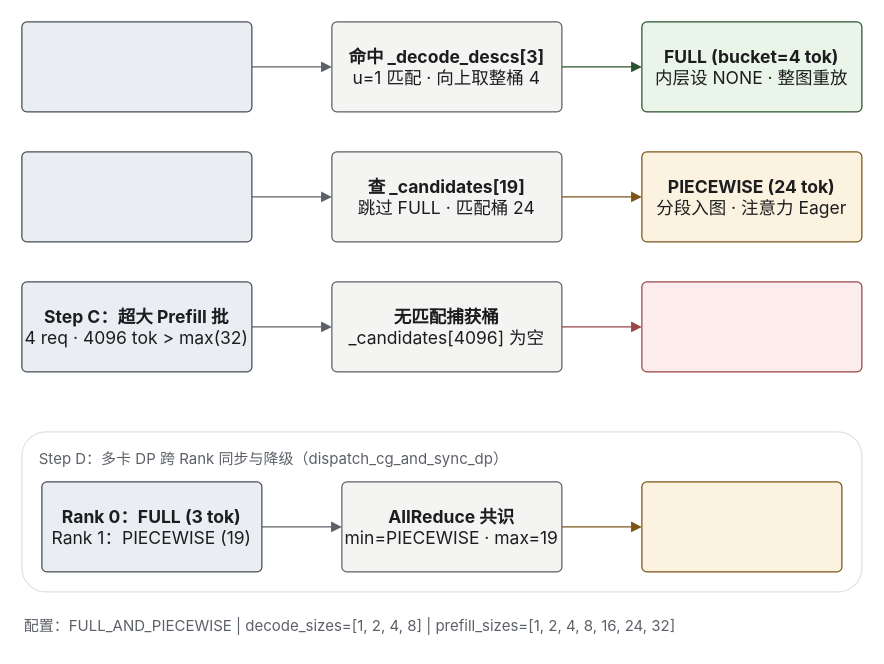
The diagram is 884 pixels wide and 664 high, and some of its shapes have lost their labels. Each missing label, with the box of its shape:
NONE (4096 tok) 全路径 Eager · 内外皆直通: (641, 281, 862, 372)
Step A：纯 Decode 批 3 req · 3 tok · u=1 · q=1: (21, 21, 252, 112)
Step B：混合批 (P+D) 4 req · 19 tok · u=None: (21, 151, 252, 242)
双 Rank 同步重分派 统一 PIECEWISE (24): (641, 481, 842, 572)
